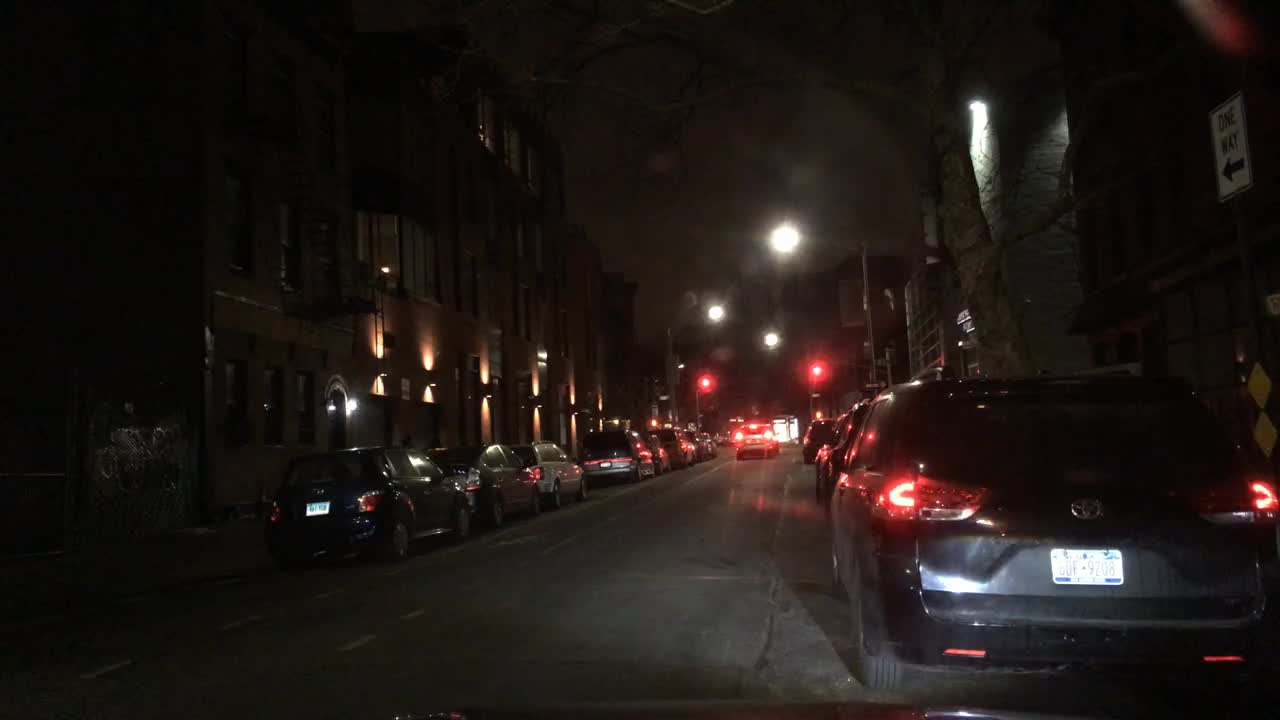car: (827, 363, 1278, 702), (262, 445, 471, 567), (432, 442, 545, 529), (823, 396, 873, 510), (510, 440, 588, 508), (580, 428, 654, 481), (814, 411, 849, 501), (648, 425, 695, 468), (802, 418, 836, 463), (640, 433, 673, 473), (731, 418, 772, 445), (736, 435, 780, 458), (685, 428, 708, 460), (701, 430, 716, 457), (714, 431, 729, 445)
traffic light: (807, 362, 824, 378), (696, 374, 711, 391), (648, 415, 659, 426), (814, 408, 824, 417)
traffic sign: (1208, 89, 1253, 204), (1251, 413, 1274, 462), (1250, 366, 1272, 411), (955, 306, 974, 324), (959, 320, 979, 335)
